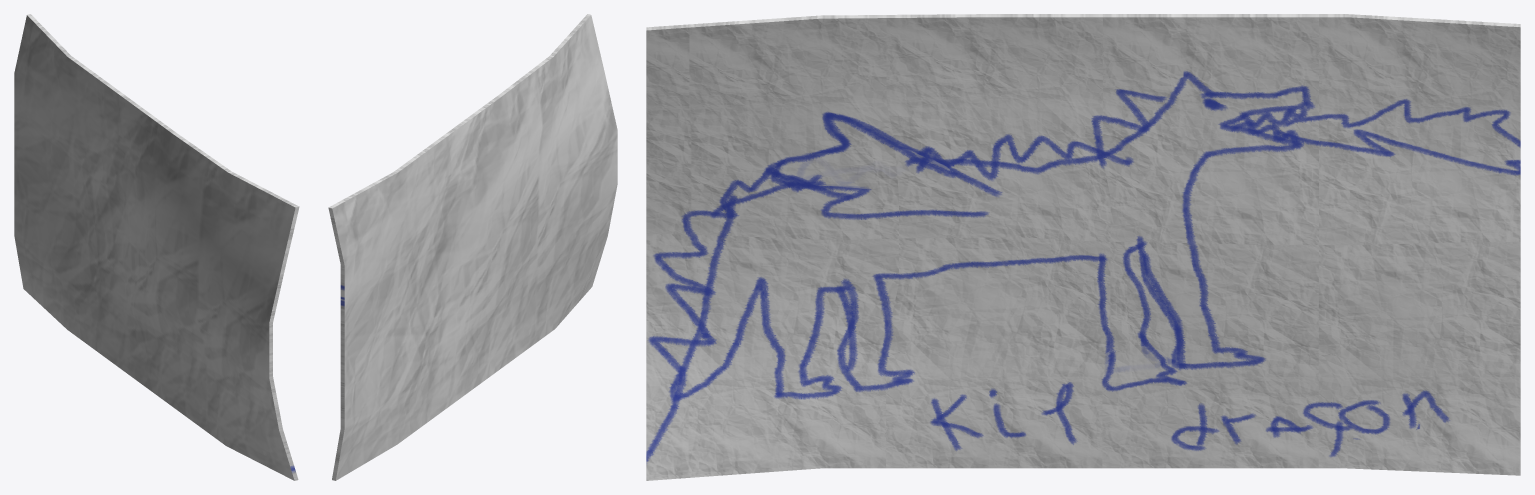
The model's file is Kill_Dragon_paper.fbx.
3 renders of one model, left to right at view 1: azimuth 30°, elevation 25°; view 2: azimuth 150°, elevation 25°; view 3: azimuth 270°, elevation 25°, orthographic. The views are drawn at different scales.
Visible parts, largest first — view 1: pPlane1; view 2: pPlane1; view 3: pPlane1.
Boxes of the visible parts, box(x1,y1,x2,y2) form: pPlane1: box(14, 14, 299, 480); pPlane1: box(328, 14, 617, 480); pPlane1: box(646, 14, 1520, 480).
Bounding box in the file's own units: 0.7553 × 6.08 × 10.68.
Materials: 1 (1 with a texture image).
